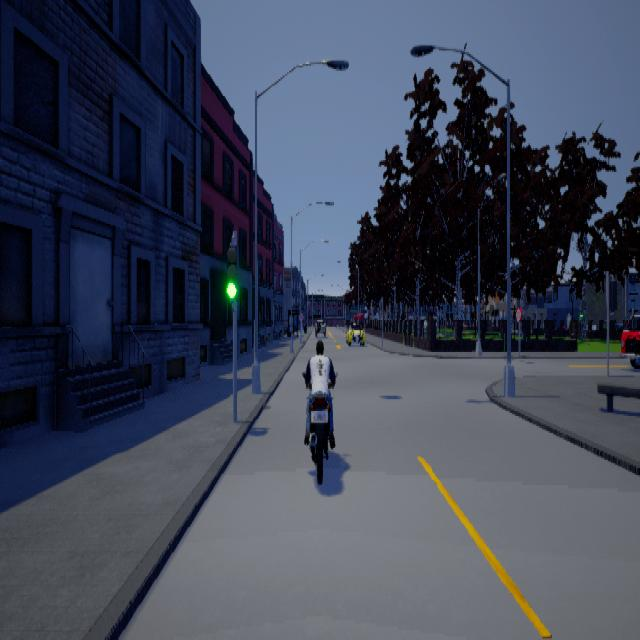green_light: (228, 232, 240, 310)
motobike: (304, 338, 339, 484)
vehicle: (616, 313, 640, 367), (348, 318, 367, 344)
